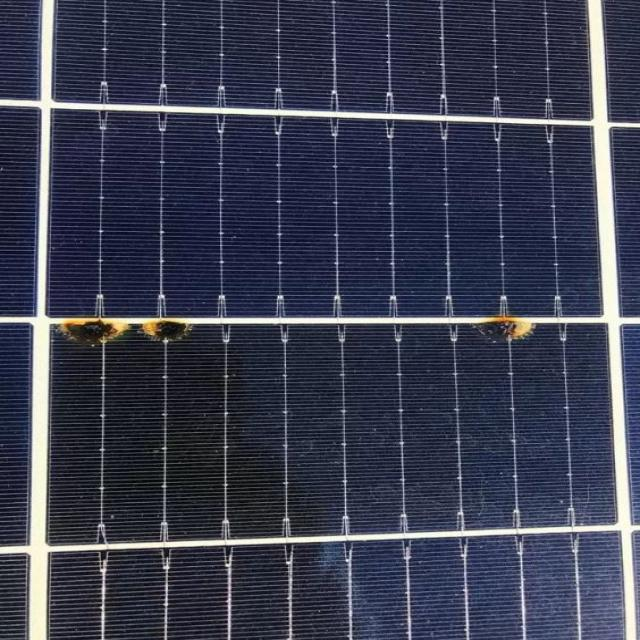Electrical-damage: (38, 292, 199, 361), (458, 294, 554, 352), (130, 300, 204, 353), (59, 301, 130, 355)
